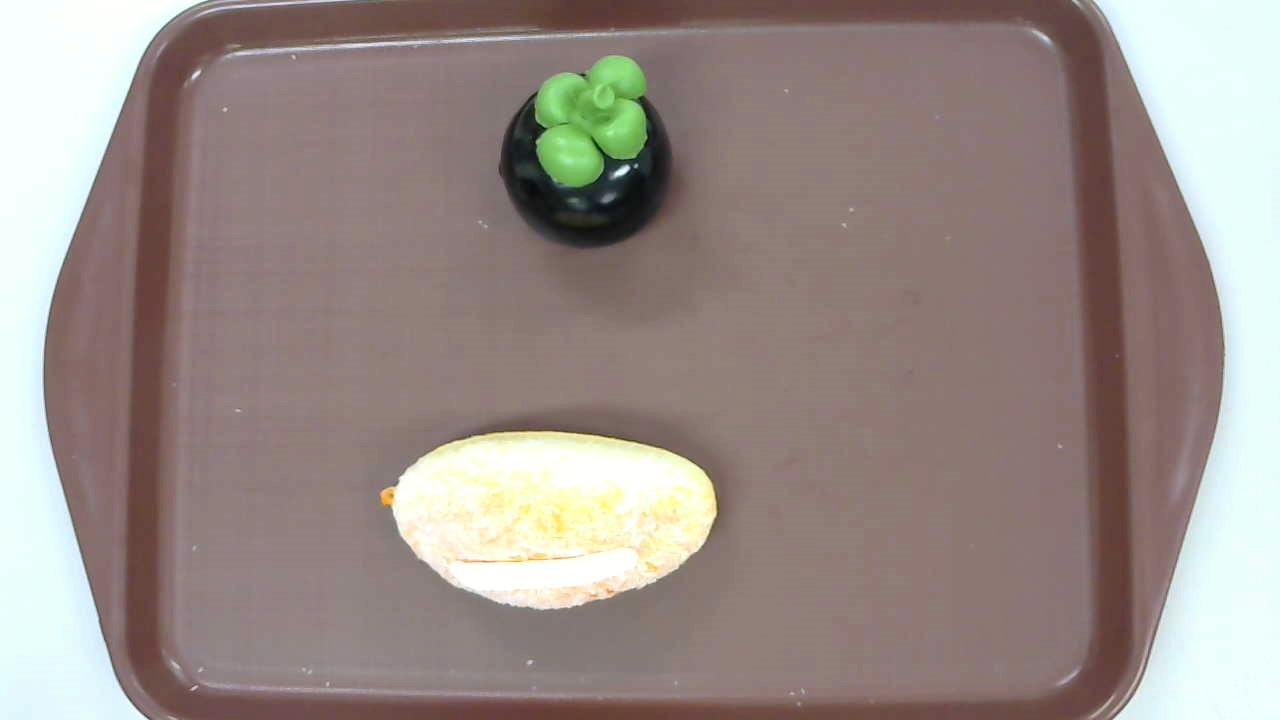coconut: (380, 432, 718, 613)
mangosteen: (498, 54, 673, 249)
